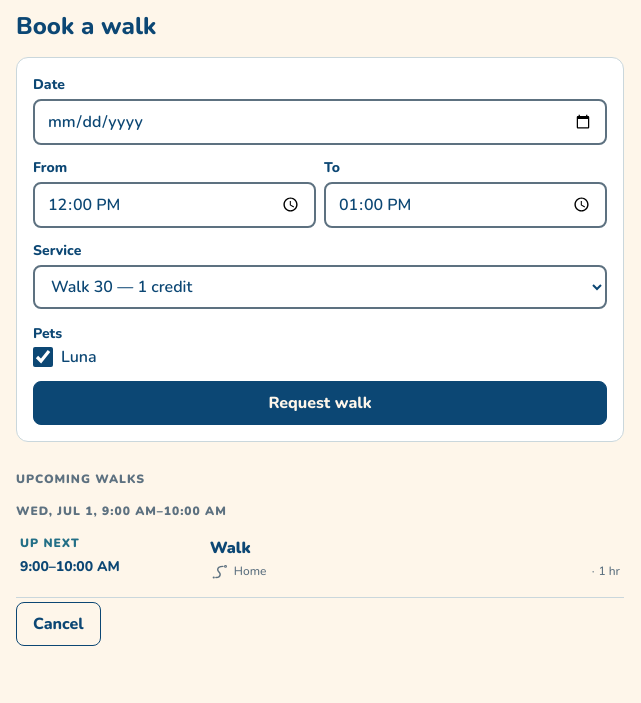
Test: Booking · credits already booked › prices a booked walk from its snapshot, not the service's price today
This screenshot has width=641, height=703.
In the date field labelled "Date": (320, 122) [33, 99, 607, 145], type "2026-07-02"
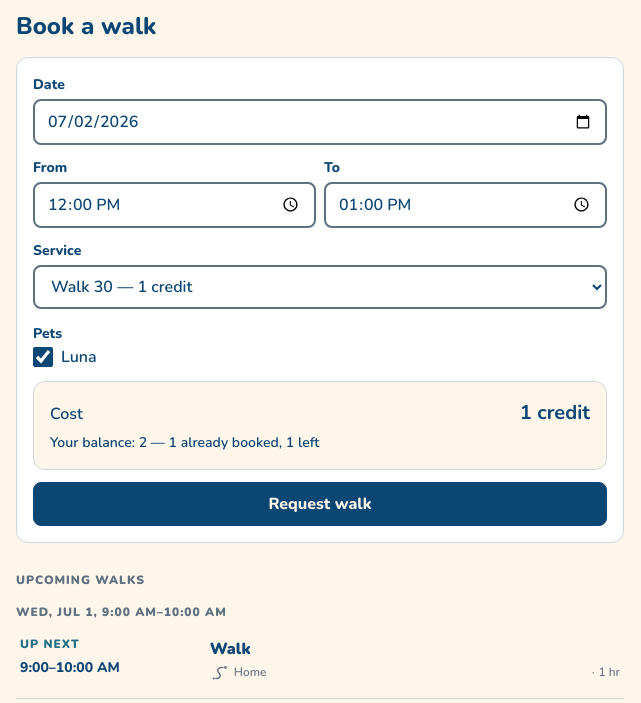
Check: the text "Cost" is shown, box [50, 402, 83, 426]
Check: the text "Your balance: 2 — 1 already booked, 1 left" is shown, box [50, 433, 319, 452]
Check: the element with class "booking-cost" is shown, box [33, 381, 607, 470]
